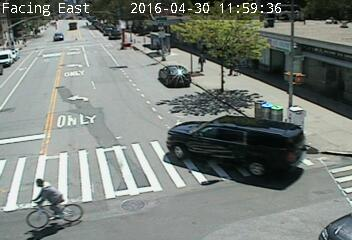neg: (221, 149, 264, 205), (24, 175, 66, 230), (160, 135, 194, 181), (147, 69, 179, 112), (98, 149, 130, 192), (38, 33, 70, 75), (288, 107, 318, 147), (93, 54, 119, 88), (83, 95, 107, 127), (22, 101, 44, 131), (256, 95, 276, 122), (288, 63, 305, 86)
pos: (193, 50, 210, 73), (227, 60, 241, 78)
